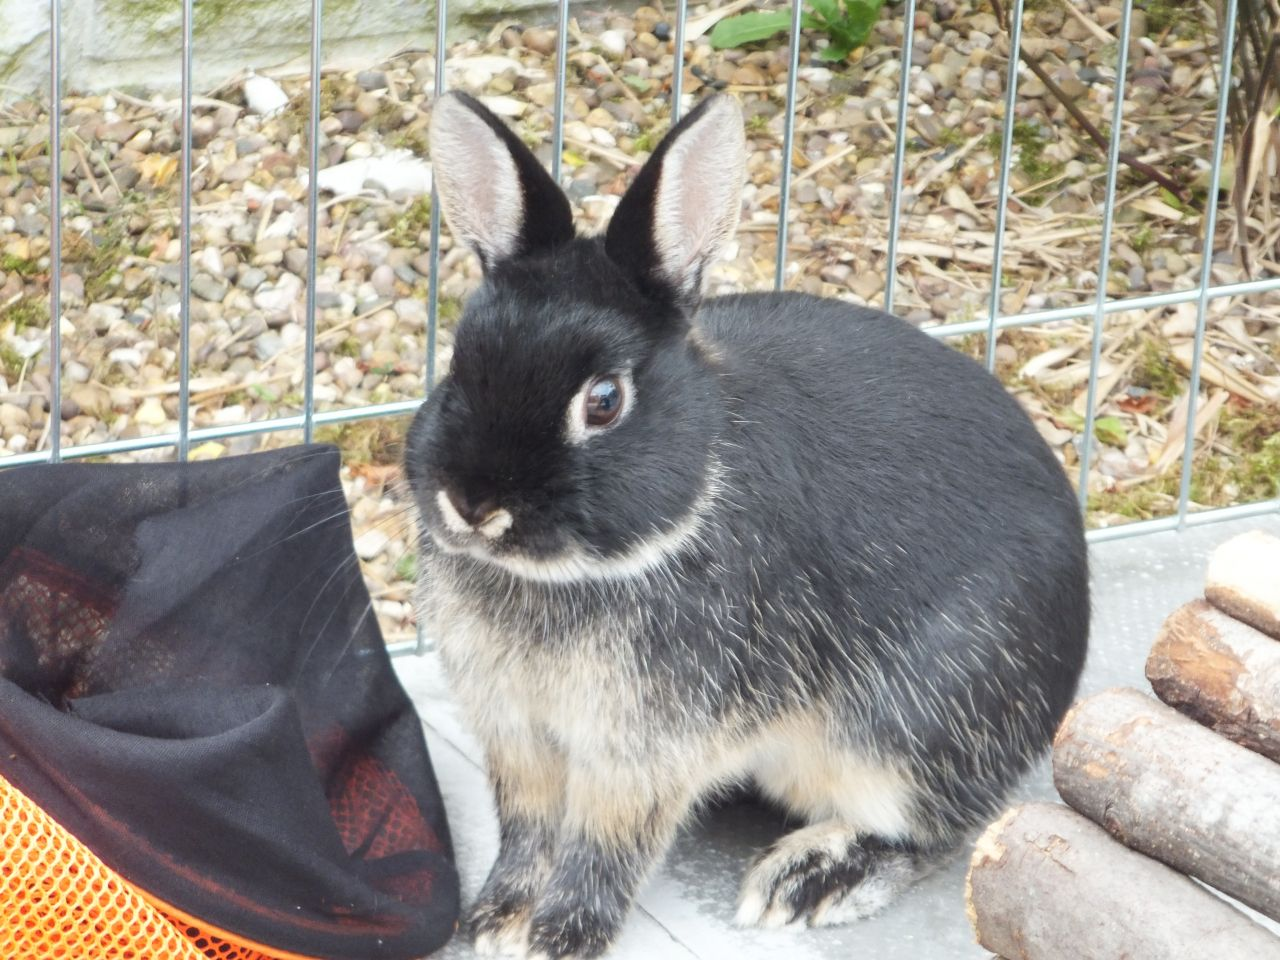bunny: (342, 61, 1133, 960)
